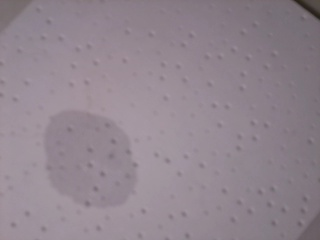Water_detected: (51, 124, 131, 198)
